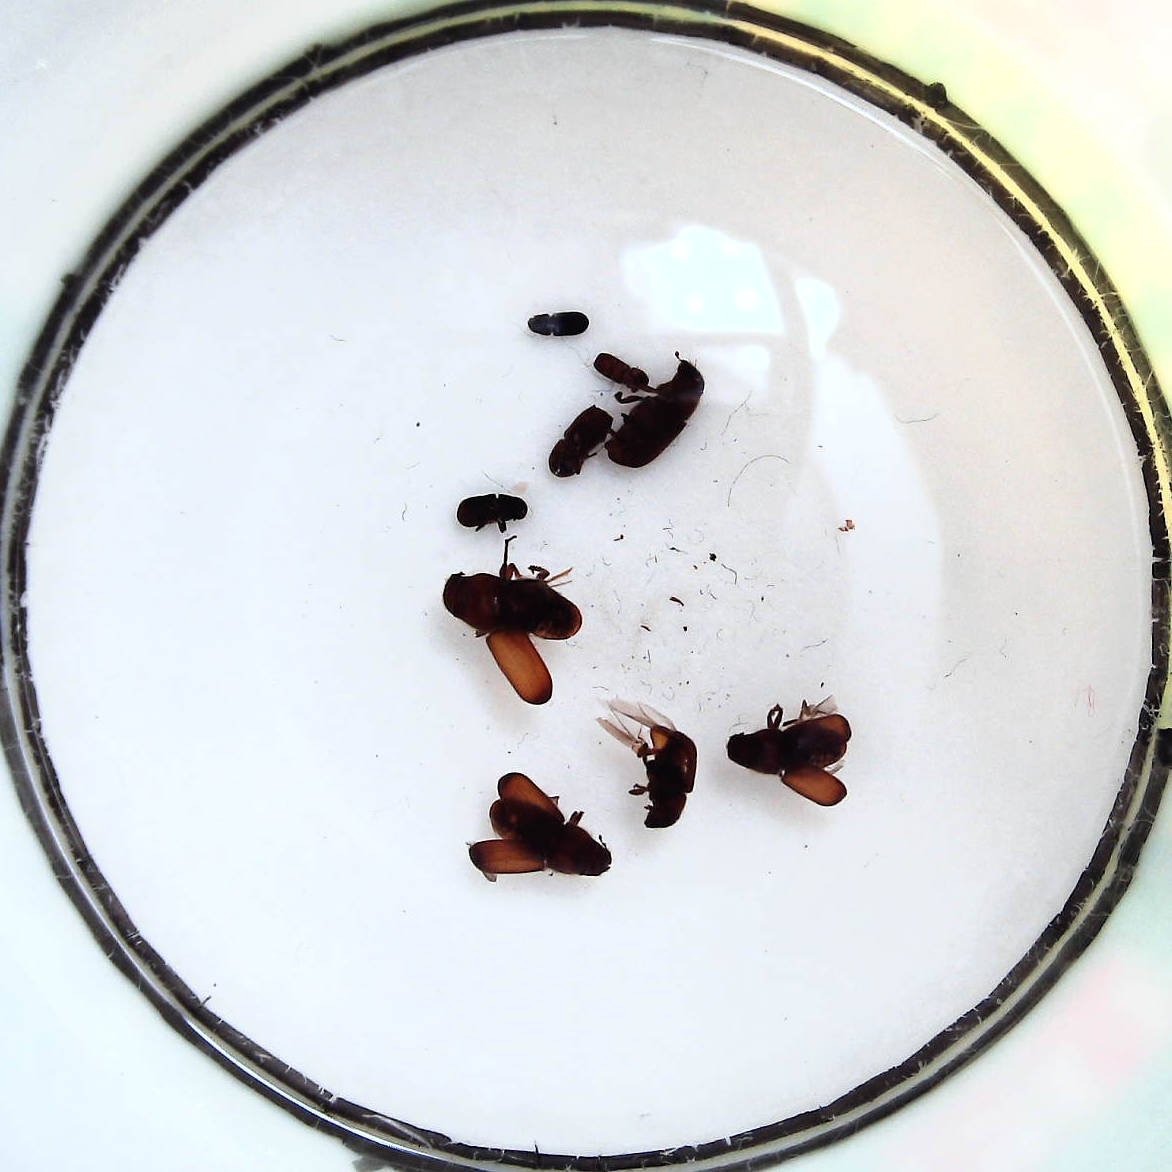Leconte: (441, 541, 582, 708), (464, 772, 615, 891), (727, 693, 854, 808), (595, 700, 704, 827), (615, 357, 707, 469)
Linnaeus: (541, 401, 612, 482)
acuminatus: (591, 350, 649, 391)
armandi: (454, 488, 532, 533)
coleoptera: (524, 309, 591, 342)
